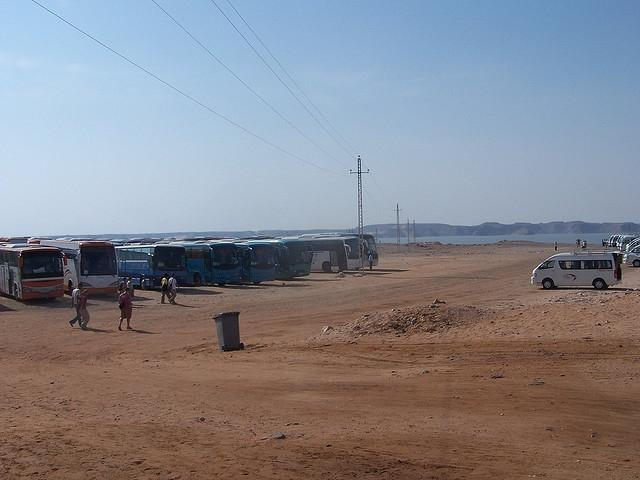bus: (28, 239, 116, 295), (0, 244, 65, 302), (115, 244, 186, 288), (248, 238, 310, 280), (185, 242, 242, 287), (300, 236, 363, 272), (235, 242, 282, 284), (358, 234, 378, 268)
car: (623, 244, 640, 268), (619, 236, 640, 251), (626, 237, 640, 253), (616, 236, 622, 247)
truck: (530, 255, 623, 290)
